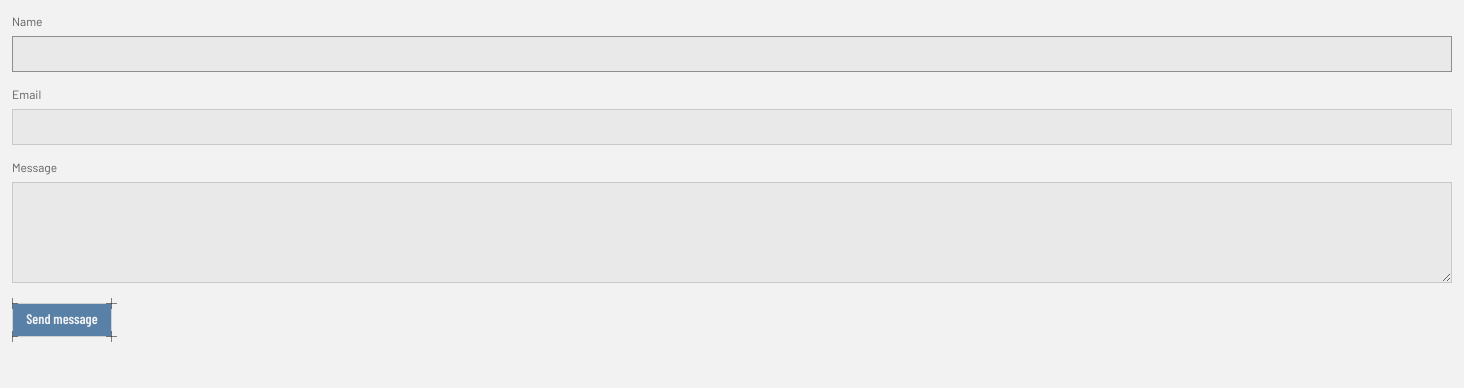
Test: ContactForm › keeps the entered text when the request fails
Type "Ada" into the field labelled "Name" at point(732, 54), box [12,36,1452,72]
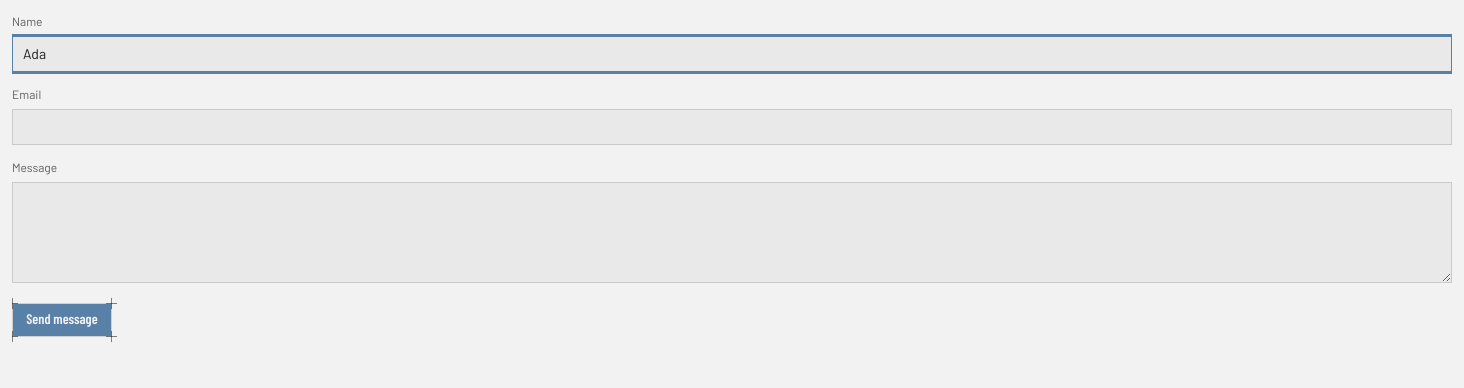
Type "ada@example.com" into the field labelled "Email" at point(732, 127), box [12,109,1452,145]
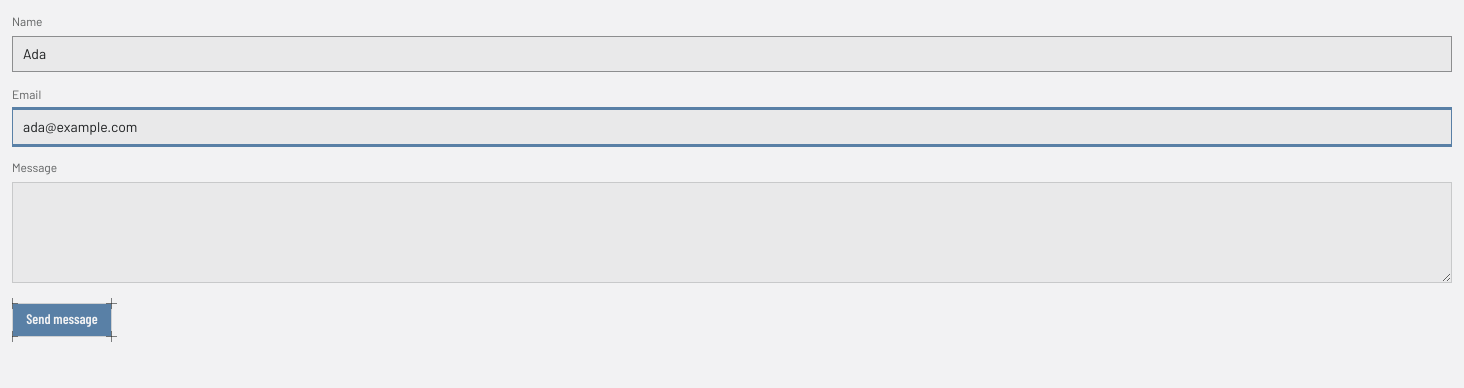
Type "Hello" into the text box labelled "Message" at point(732, 232), box [12,182,1452,283]
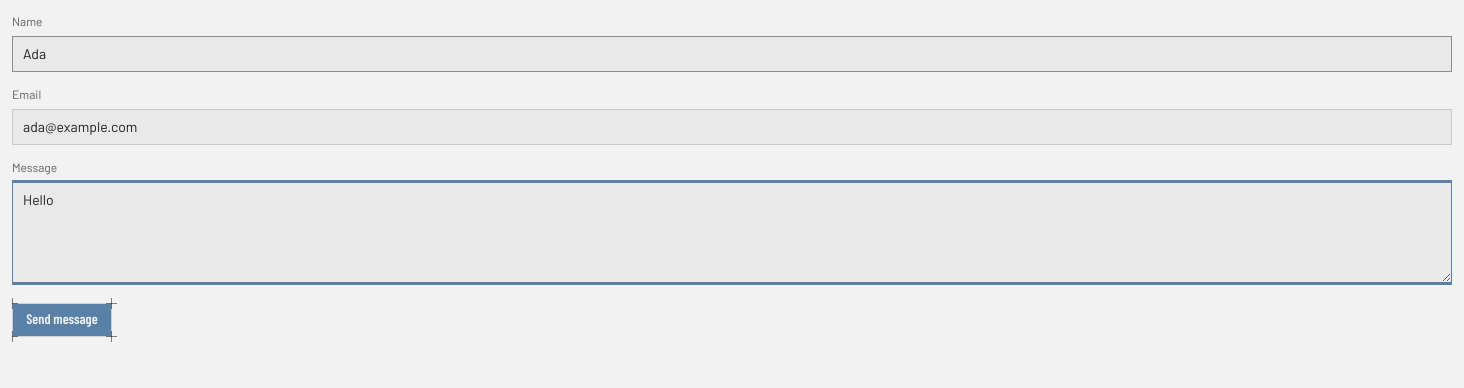
Click the button "Send message" at point(62, 320), box [13,304,111,336]
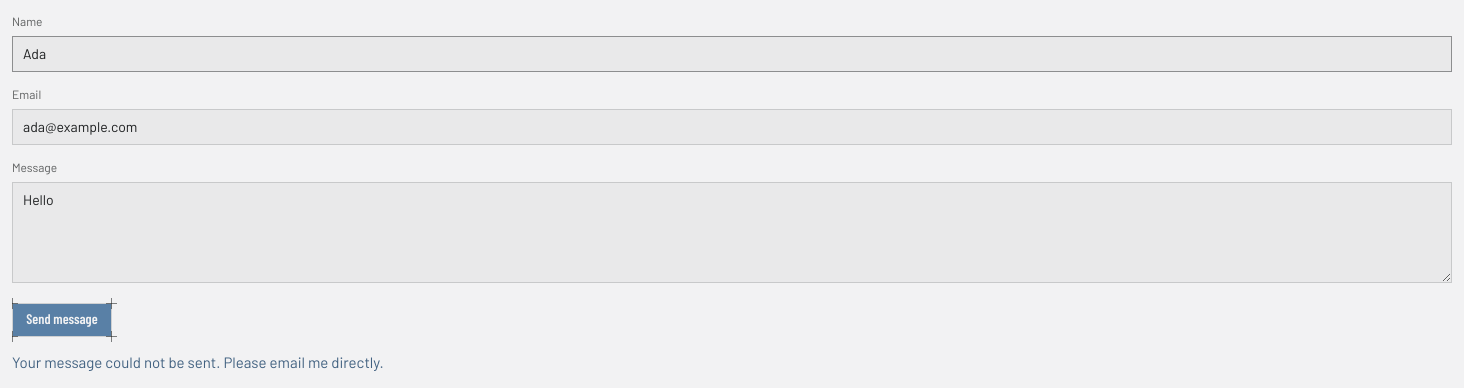
expect the message "Your message could not be sent. Please email me directly." is shown: met, box [12,352,384,370]
